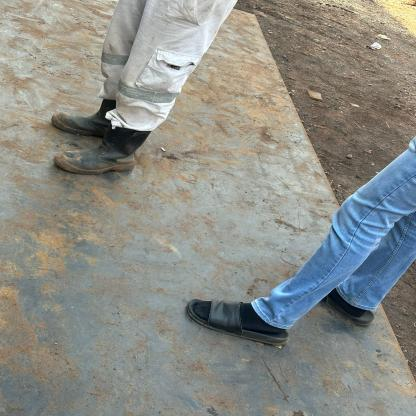bota: (54, 127, 151, 179), (49, 95, 122, 136)
